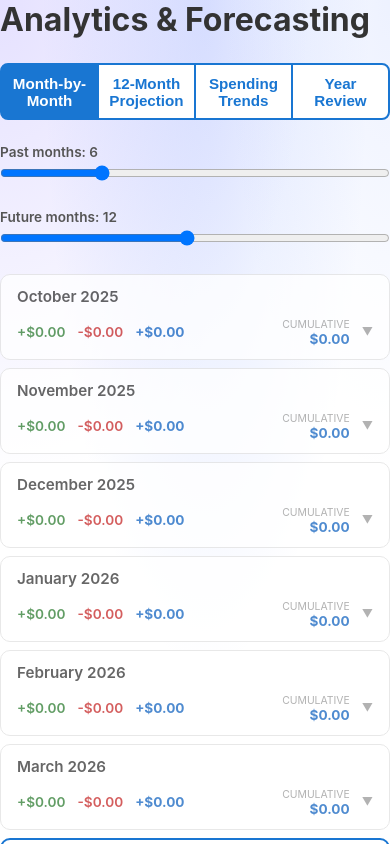
Test: AnalyticsView › switches to projection tab
Click the button "12-Month Projection": (146, 92) [98,63,195,120]
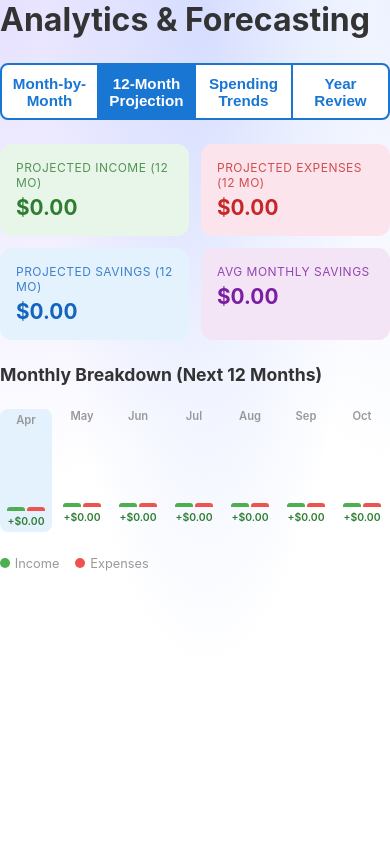
Check: the element that starts with "Projected Income (12 mo)" is shown, box [0,144,389,571]
